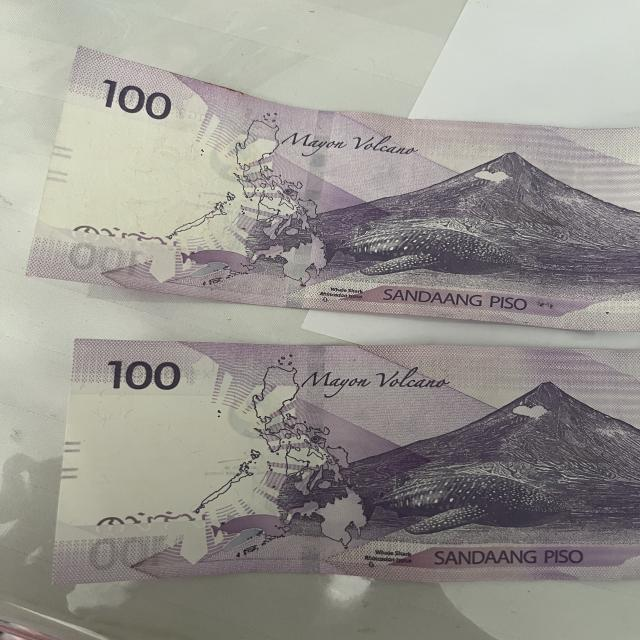100_whale: (344, 460, 579, 539), (314, 213, 517, 290)
100_whale_watermark: (196, 502, 300, 555), (175, 241, 269, 287)
